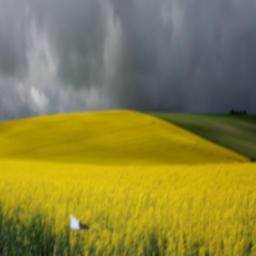Crow: (72, 145, 102, 230)
